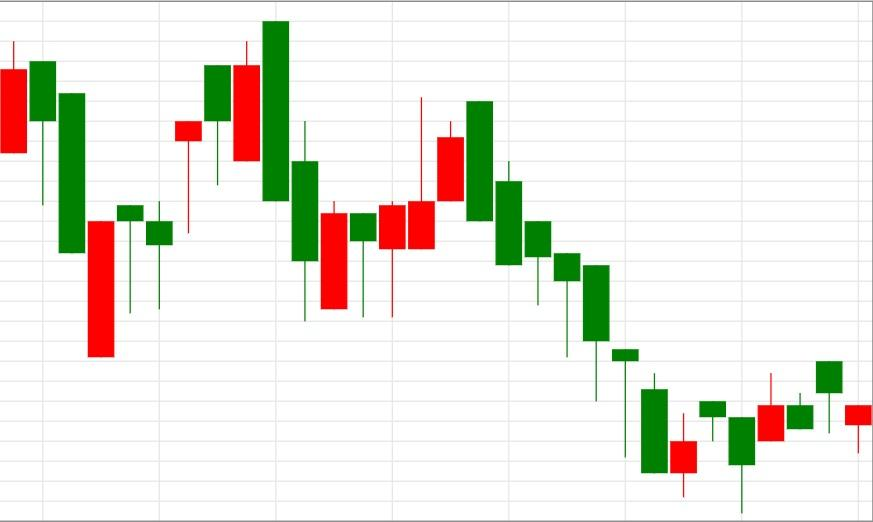bearish_engulfing_fall: (87, 21, 291, 358), (320, 97, 495, 318)
